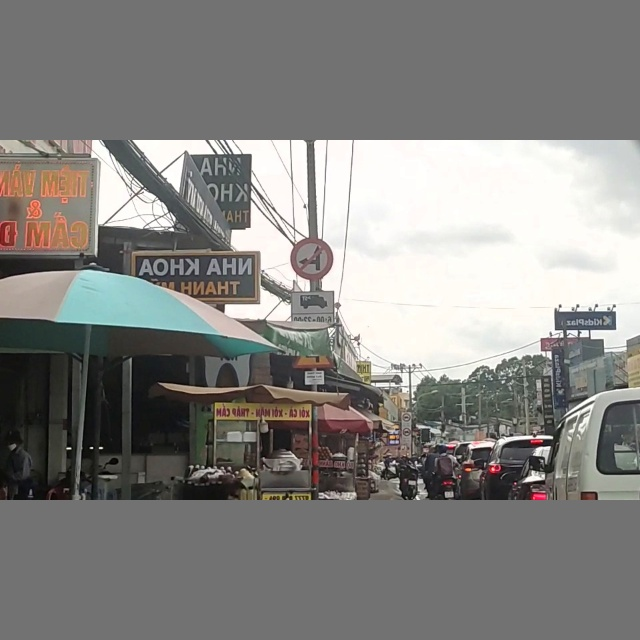P.139: (291, 239, 333, 279)
S.505a*Xe tai: (293, 292, 334, 327)
